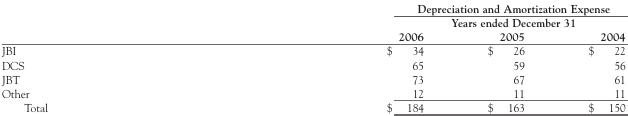table: (0, 1, 624, 112)
table column: (216, 1, 455, 112), (0, 1, 216, 112), (455, 1, 555, 112), (555, 1, 624, 112)
table column header: (0, 1, 624, 43)
table row: (0, 1, 624, 29), (0, 29, 624, 43), (0, 43, 624, 57), (0, 57, 624, 71), (0, 71, 624, 85), (0, 85, 624, 99), (0, 99, 624, 112)
table spanning cell: (216, 1, 624, 29)
